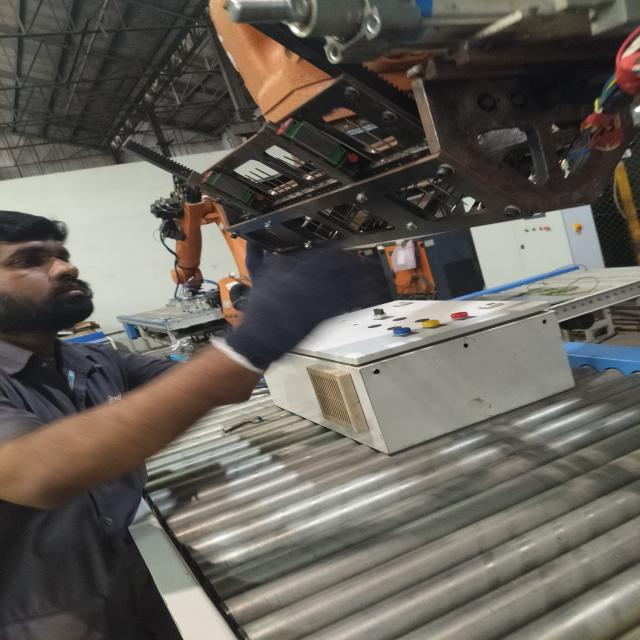Gloves-Detection: (234, 245, 338, 365)
